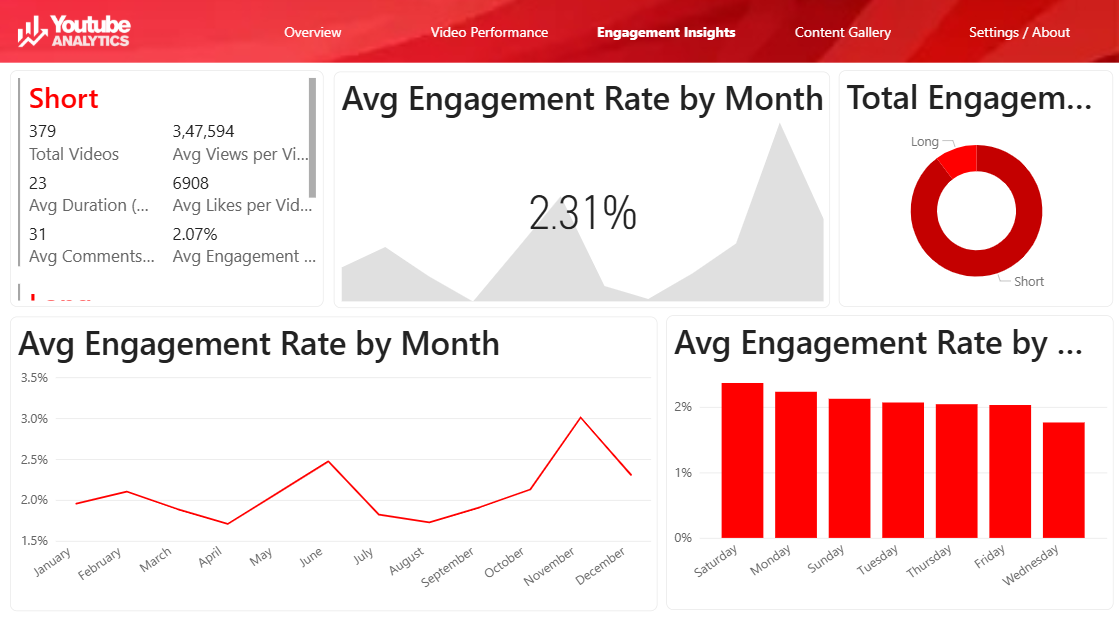

Layout of this report page (visuals, bound fields, positions):
{"tool":"powerbi","page":{"name":"Engagement Insights","canvas":[1280,720],"ordinal":2},"visuals":[{"type":"lineChart","fields":{"Category":["orry_youtube_data_FINAL.publish_date.Variation.Date Hierarchy.Month"],"Y":["orry_youtube_data_FINAL.Avg Engagement Rate"]},"box":[11.1,362.2,740,336.7],"z":0},{"type":"donutChart","fields":{"Category":["orry_youtube_data_FINAL.video_type"],"Y":["orry_youtube_data_FINAL.Total Engagement"]},"box":[958.9,81.1,313.3,270],"z":1000},{"type":"columnChart","fields":{"Category":["orry_youtube_data_FINAL.Weekday Name"],"Y":["orry_youtube_data_FINAL.Avg Engagement Rate"]},"box":[761.1,361.1,511.1,336.7],"z":2000},{"type":"kpi","fields":{"Indicator":["orry_youtube_data_FINAL.Avg Engagement Rate"],"TrendLine":["orry_youtube_data_FINAL.publish_date.Variation.Date Hierarchy.Month"]},"box":[381.4,82.9,567.1,270],"z":3000},{"type":"multiRowCard","fields":{"Values":["orry_youtube_data_FINAL.Total Videos","orry_youtube_data_FINAL.Avg Views per Video","orry_youtube_data_FINAL.Avg Duration (Seconds)","orry_youtube_data_FINAL.Avg Likes per Video","orry_youtube_data_FINAL.Avg Comments per Video","orry_youtube_data_FINAL.Avg Engagement Rate","orry_youtube_data_FINAL.video_type"]},"box":[11.4,81.4,358.6,270],"z":4000},{"type":"image","box":[0,0,1280,72.9],"z":4001},{"type":"pageNavigator","box":[261.9,12.5,1001.2,47.5],"z":4002},{"type":"image","box":[16.2,0,151.2,72.5],"z":4003}]}

Visuals, with their boxes on the page's 1280x720 design canvas (x1, y1, x2, y2). These are canvas units, not pixel positions in the 1119x626 screenshot, which may show the page scaled, cropped or inside an application window:
lineChart - orry_youtube_data_FINAL.publish_date.Variation.Date Hierarchy.Month x orry_youtube_data_FINAL.Avg Engagement Rate: BBox(11, 362, 751, 699)
donutChart - orry_youtube_data_FINAL.video_type x orry_youtube_data_FINAL.Total Engagement: BBox(959, 81, 1272, 351)
columnChart - orry_youtube_data_FINAL.Weekday Name x orry_youtube_data_FINAL.Avg Engagement Rate: BBox(761, 361, 1272, 698)
kpi - orry_youtube_data_FINAL.Avg Engagement Rate x orry_youtube_data_FINAL.publish_date.Variation.Date Hierarchy.Month: BBox(381, 83, 948, 353)
multiRowCard - orry_youtube_data_FINAL.Total Videos x orry_youtube_data_FINAL.Avg Views per Video: BBox(11, 81, 370, 351)
image: BBox(0, 0, 1280, 73)
pageNavigator: BBox(262, 12, 1263, 60)
image: BBox(16, 0, 167, 72)
